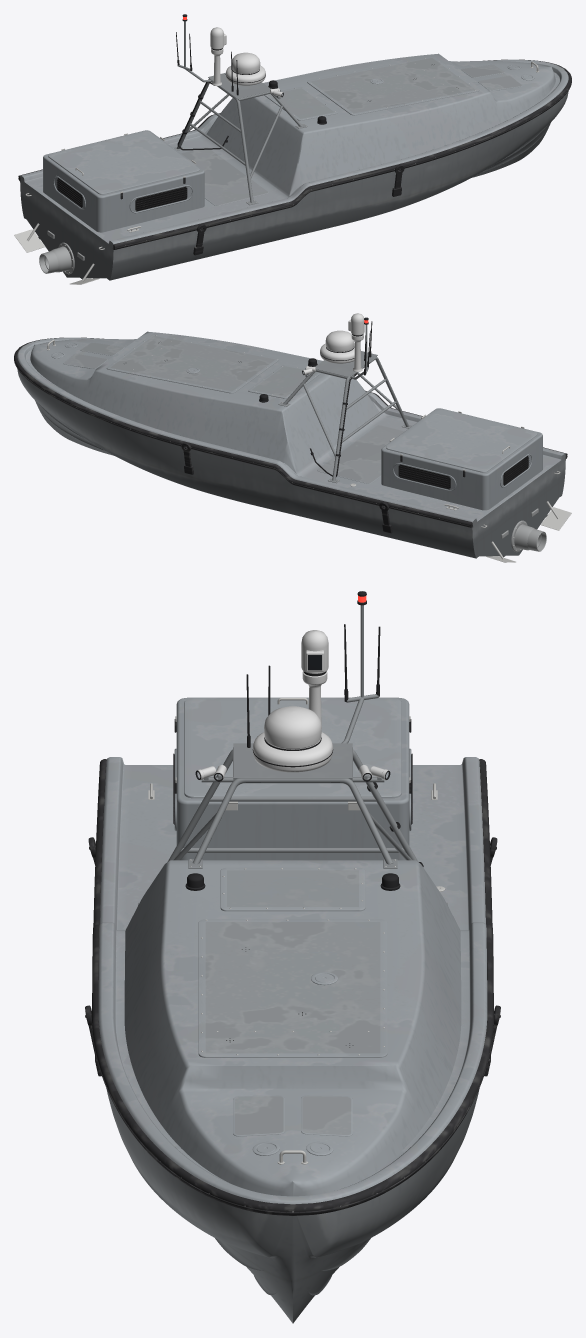
File: corsair.glb
3 renders of one model, top to bottom at view 1: azimuth 30°, elevation 25°; view 2: azimuth 150°, elevation 25°; view 3: azimuth 270°, elevation 25°, orthographic. The views are drawn at different scales.
Parts seen in each view (by area): view 1: deck, hull, gear; view 2: deck, hull, gear; view 3: deck, gear, hull.
Part boxes in pixels (x1,y1,x2,y2): deck: (20, 53, 568, 244); hull: (20, 91, 568, 280); gear: (14, 14, 571, 284); deck: (17, 331, 565, 522); hull: (17, 369, 565, 558); gear: (14, 313, 571, 562); deck: (98, 697, 487, 1204); gear: (85, 591, 500, 1215); hull: (106, 1088, 479, 1323).
Bounding box in the file's own units: 7.67 × 3.05 × 2.64.
Materials: 8 (6 with a texture image).
